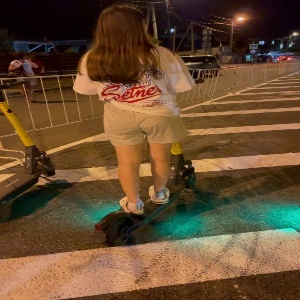human on a scooter: (70, 4, 204, 247)
